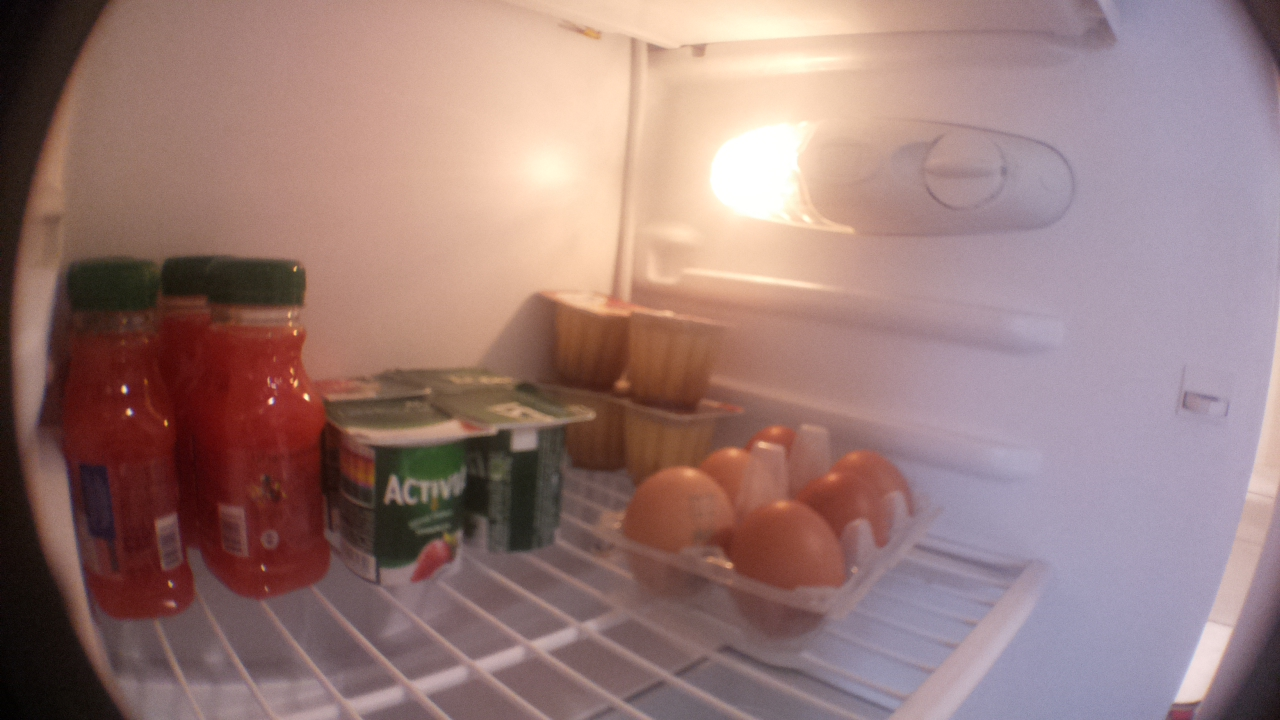caramel: (629, 303, 741, 414), (617, 391, 720, 487), (553, 282, 628, 398), (563, 376, 626, 479)
egg: (737, 497, 851, 647), (624, 467, 734, 605), (802, 466, 904, 570), (831, 427, 922, 532), (700, 440, 779, 511), (746, 419, 815, 491)
juice: (57, 260, 199, 626), (204, 263, 334, 606), (155, 243, 213, 443)
yoghurt: (334, 407, 475, 590), (448, 393, 590, 562), (403, 365, 522, 395), (319, 378, 428, 407)
